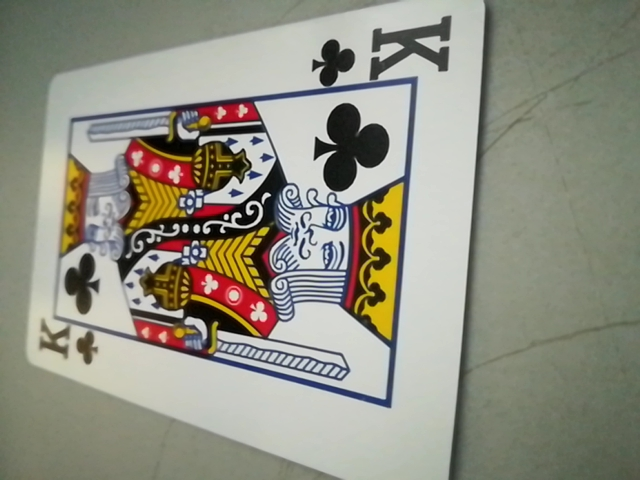mh k: (311, 14, 459, 89), (31, 310, 98, 368)
